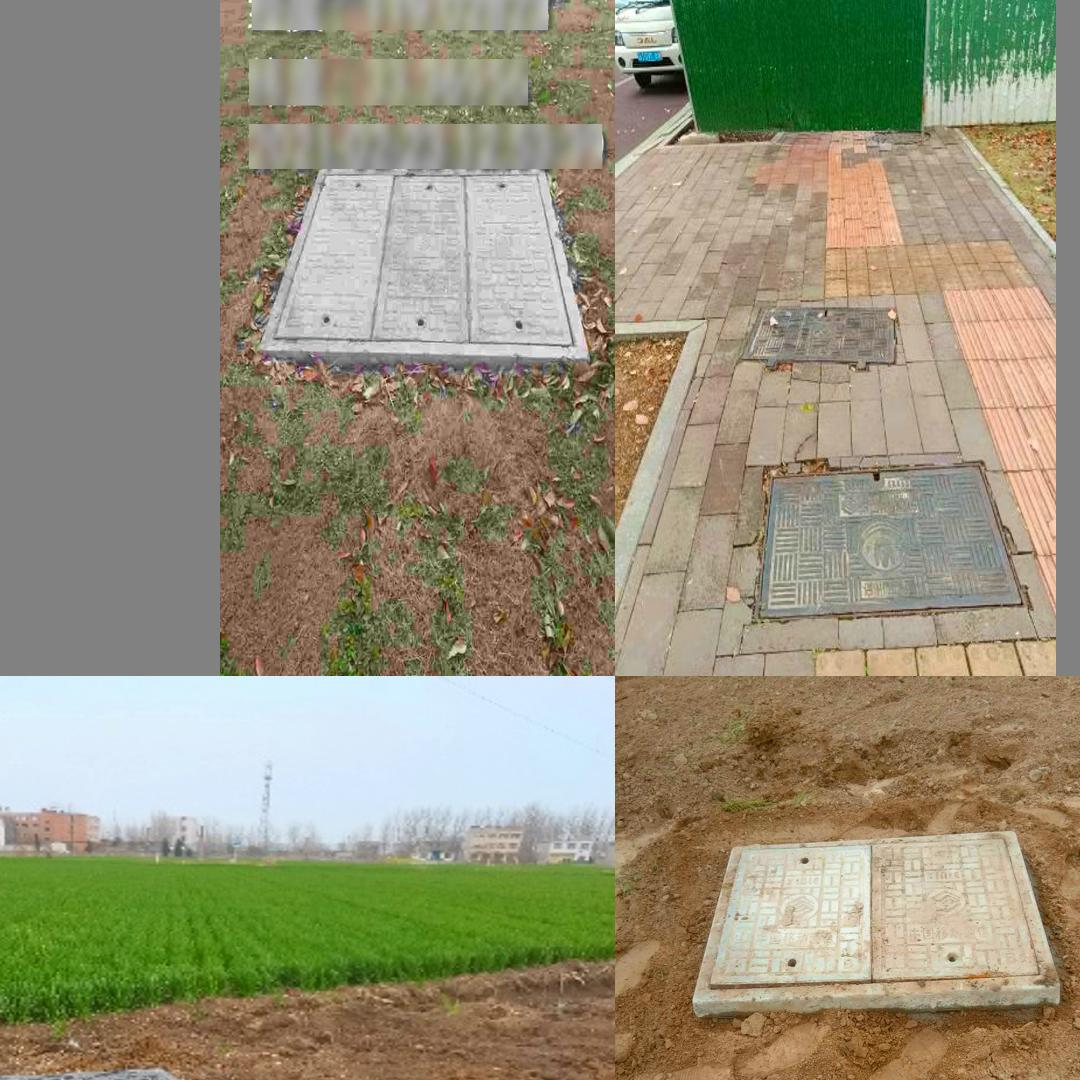good: (257, 166, 591, 365), (693, 830, 1060, 996), (751, 459, 1029, 624), (738, 300, 896, 371), (0, 1058, 234, 1080)
